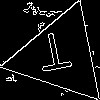T: (35, 30, 76, 81)
